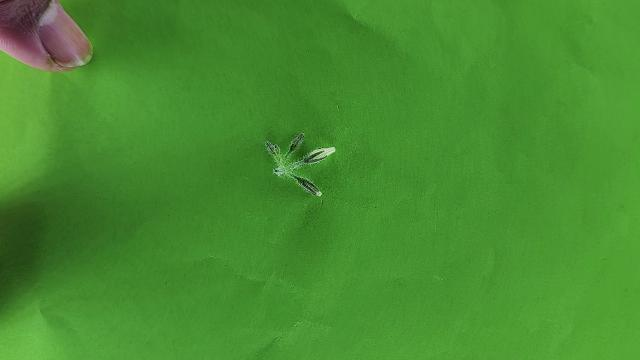Flower Bud: (298, 146, 336, 165), (291, 174, 323, 196), (287, 132, 305, 156), (265, 141, 276, 155)
